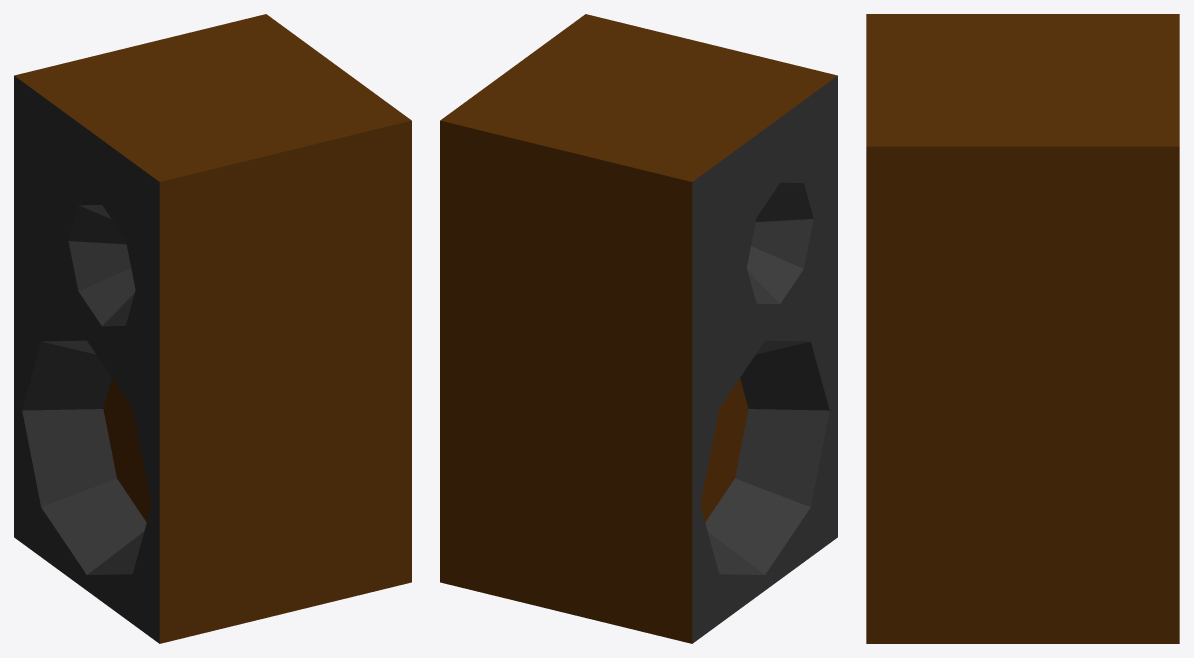
File: INVISIBLE_ZCVOBSOUND.OBJ
3 views of the same model, side by side, from view 1: azimuth 30°, elevation 25°; view 2: azimuth 150°, elevation 25°; view 3: azimuth 270°, elevation 25° (orthographic). The views are drawn at different scales.
Parts seen in each view (by area): view 1: INVISIBLE_ZCVOBSOUND; view 2: INVISIBLE_ZCVOBSOUND; view 3: INVISIBLE_ZCVOBSOUND.
Part boxes in pixels (box(x1,y1,x2,y2)): INVISIBLE_ZCVOBSOUND: box(14, 14, 411, 643); INVISIBLE_ZCVOBSOUND: box(440, 14, 837, 643); INVISIBLE_ZCVOBSOUND: box(866, 14, 1179, 643).
Size of the model in its own units: 0.4 by 0.7 by 0.4.
